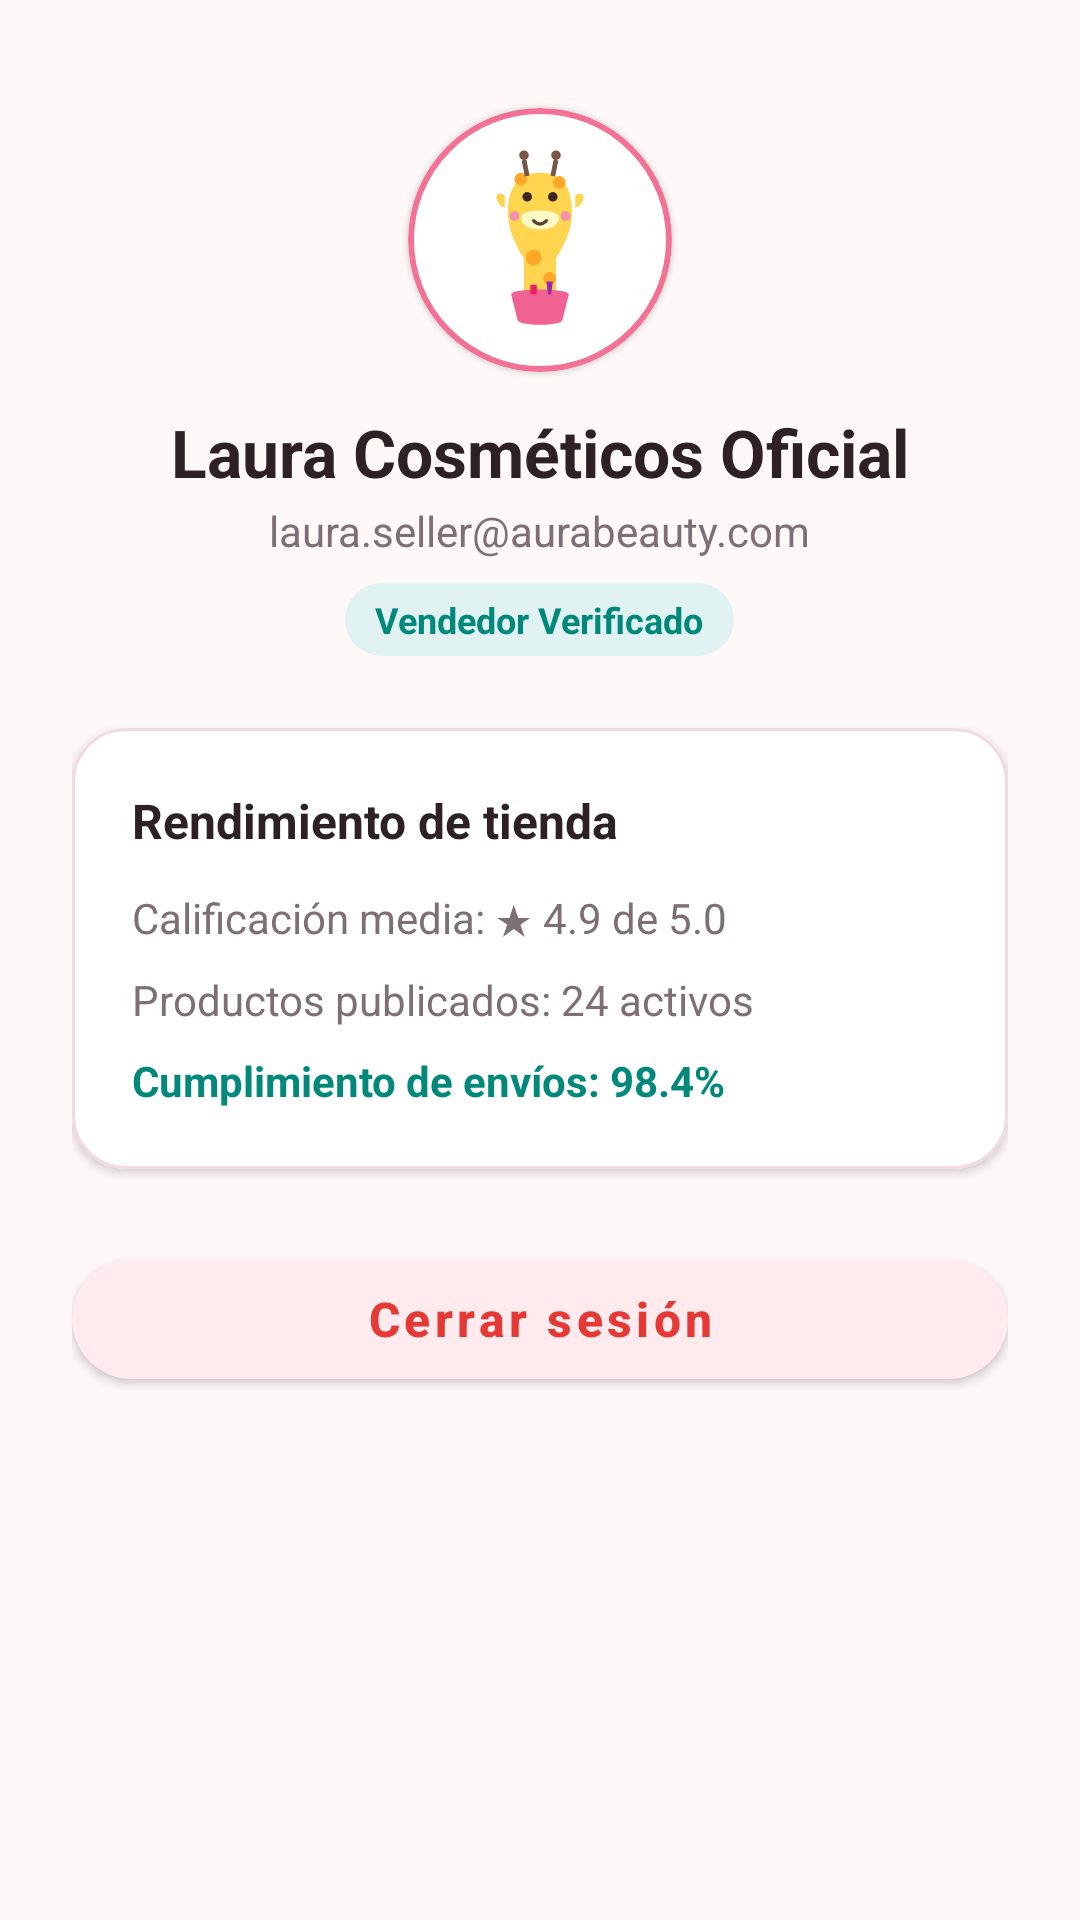

Where to tap for icons on this 1080x1920 app screen, as (x=x, y=y):
Foto de la tienda: (x=540, y=240)
